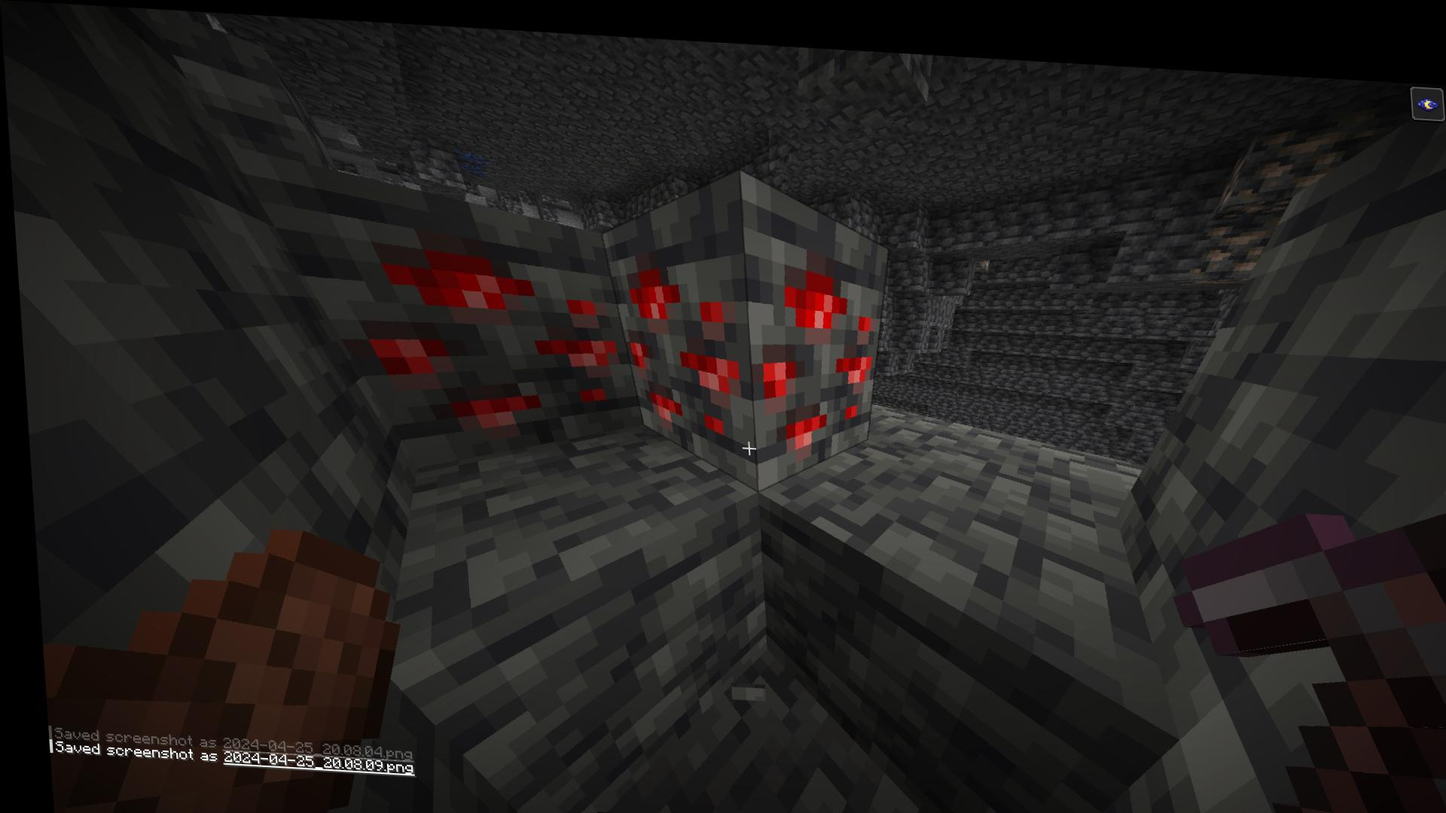iron ore: (1232, 106, 1353, 195), (1191, 197, 1266, 275)
redstone ore: (315, 195, 629, 449), (612, 212, 882, 462)
